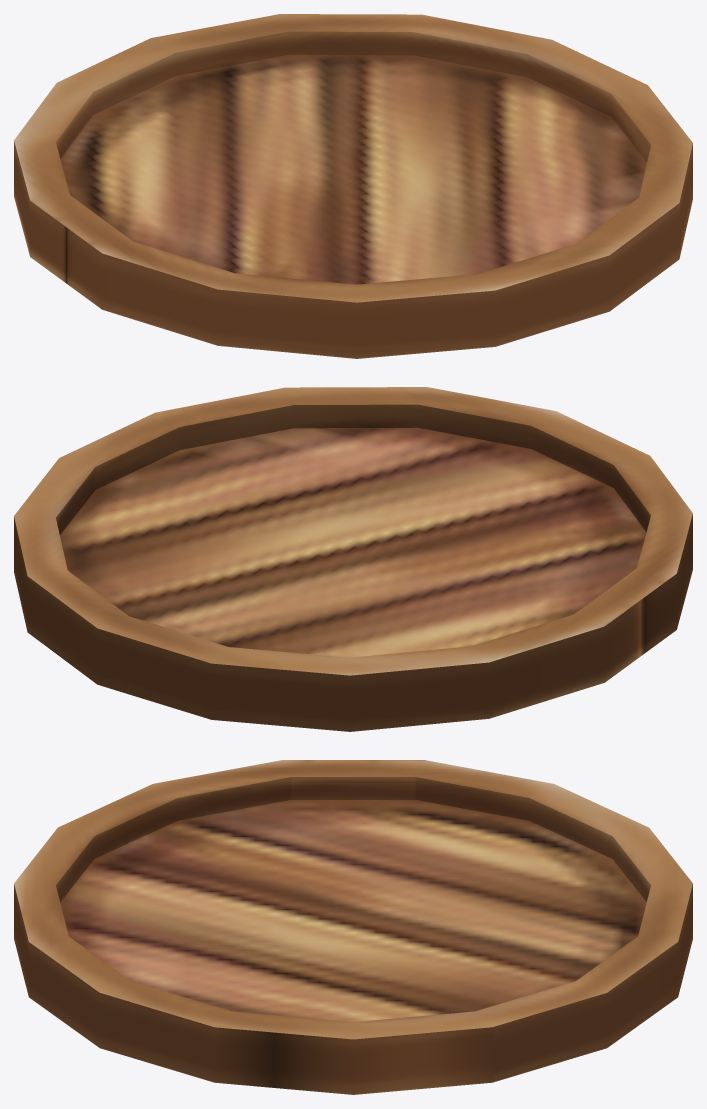
Rendered from gazi_02.fbx.
The picture shows the model from 3 angles, top to bottom: view 1: azimuth 30°, elevation 25°; view 2: azimuth 150°, elevation 25°; view 3: azimuth 270°, elevation 25°; orthographic projection.
Visible parts, largest first — view 1: gazi_01; view 2: gazi_01; view 3: gazi_01.
Part boxes in pixels (bbox=[...]): gazi_01: bbox=[14, 14, 692, 358]; gazi_01: bbox=[14, 387, 692, 731]; gazi_01: bbox=[14, 760, 692, 1094].
Bounding box in the file's own units: 69.87 × 6.46 × 71.74.
